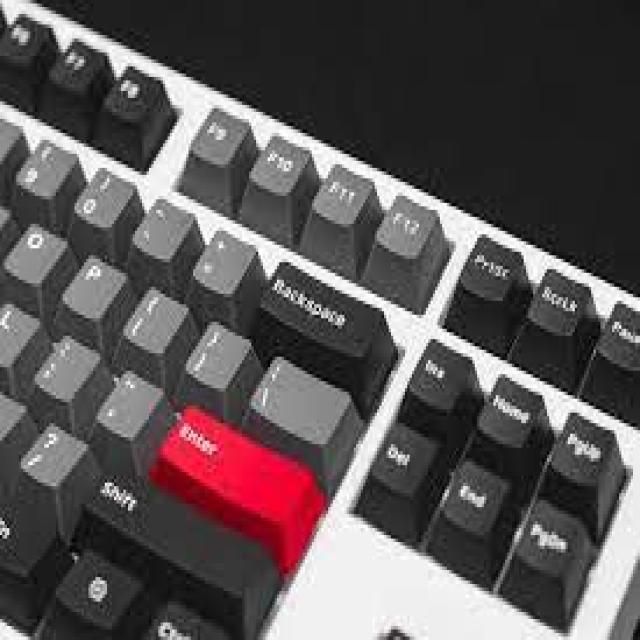keyboard: (7, 10, 640, 627)
